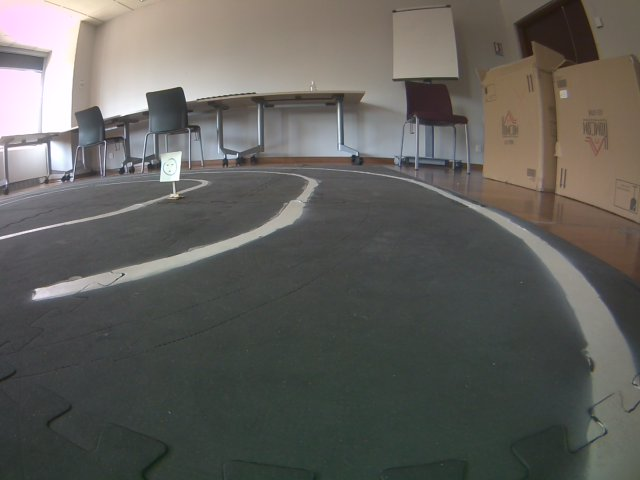Smiley: (157, 149, 184, 182)
